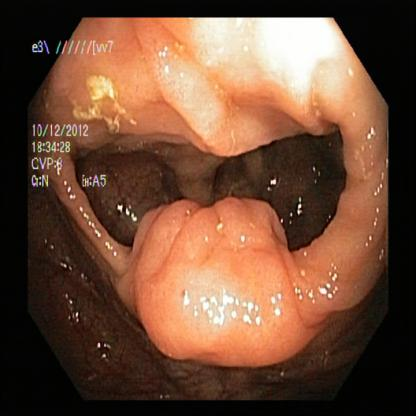Labels: (28, 37, 115, 193)
Polyps: (136, 198, 308, 358)
